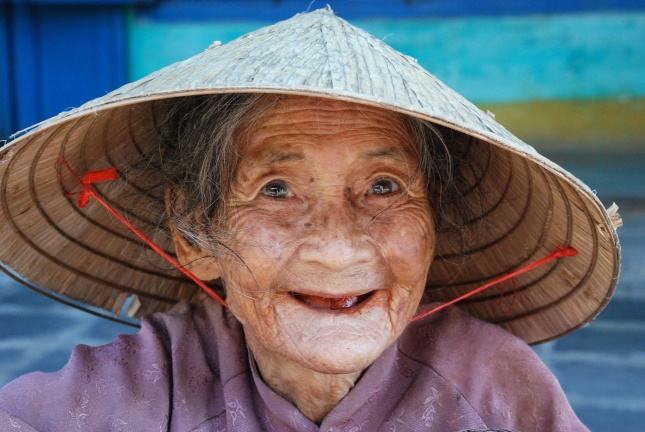Forehead: (205, 86, 429, 166)
